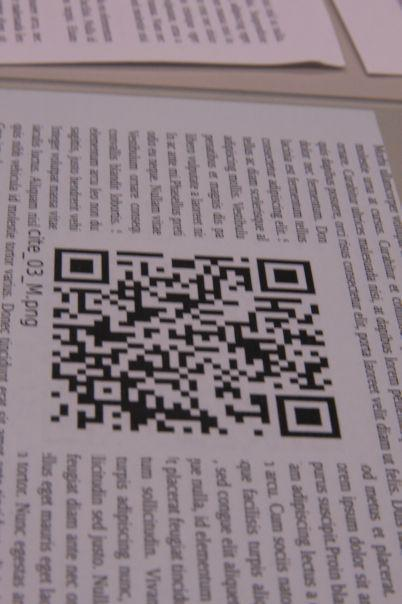qr_code: (51, 248, 341, 440)
